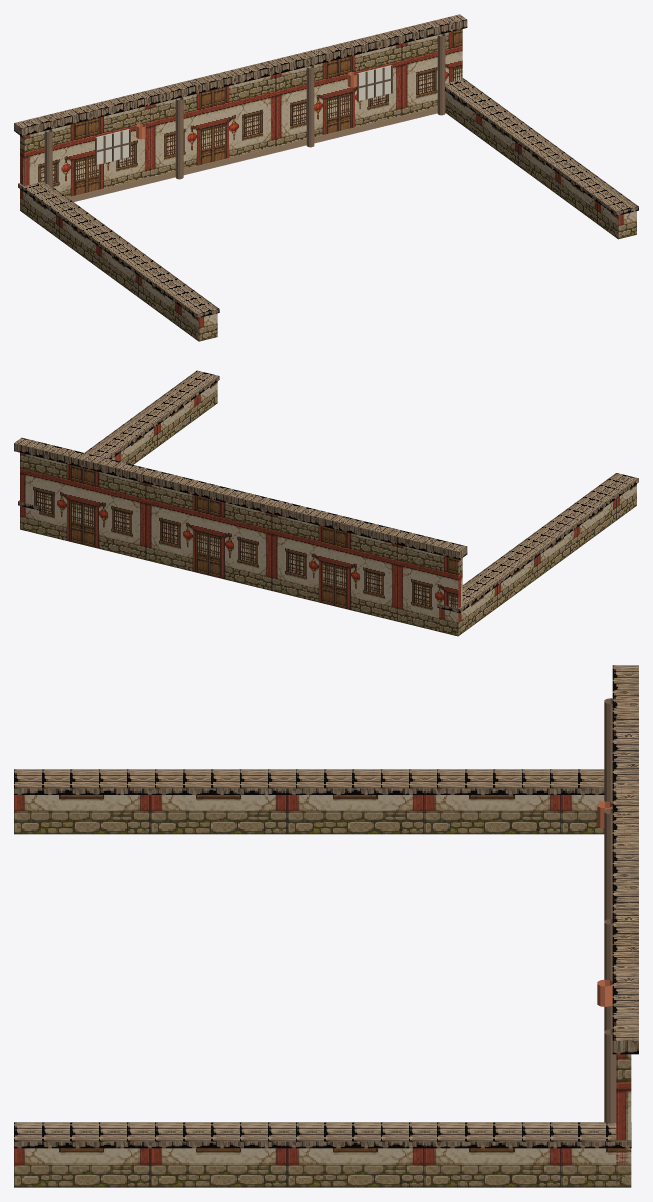
File: rm_clinic.glb
3 views of the same model, one above another, from view 1: azimuth 30°, elevation 25°; view 2: azimuth 150°, elevation 25°; view 3: azimuth 270°, elevation 25° (orthographic). The views are drawn at different scales.
Visible parts, largest first — view 1: wall, beam, side, post, trim, paper, lat; view 2: wall, beam, side; view 3: side, beam, post, wall.
Boxes of the visible parts, bbox=[...] form: wall: bbox=[20, 29, 462, 213]; beam: bbox=[14, 14, 638, 318]; side: bbox=[20, 91, 636, 341]; post: bbox=[44, 33, 445, 186]; trim: bbox=[24, 107, 437, 213]; paper: bbox=[95, 65, 391, 164]; lat: bbox=[95, 65, 392, 165]; wall: bbox=[20, 452, 462, 634]; beam: bbox=[14, 370, 638, 612]; side: bbox=[20, 381, 636, 636]; side: bbox=[14, 795, 631, 1187]; beam: bbox=[14, 665, 638, 1148]; post: bbox=[604, 698, 616, 1123]; wall: bbox=[616, 1054, 631, 1186].
Size of the model in its own units: 236 by 44.01 by 166.
8 materials, 3 textured.
